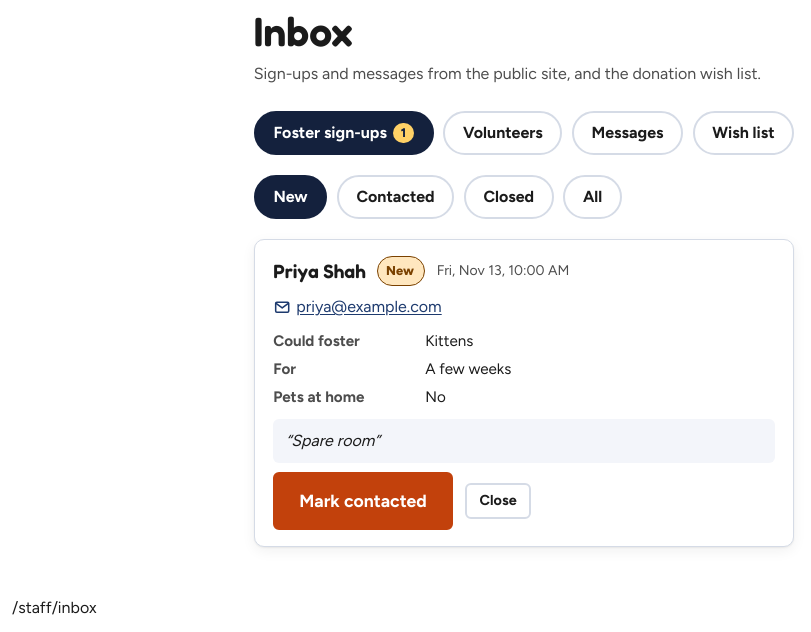
Scenario: Staff inbox › T-INBOX-UI-1: staff see new sign-ups with their answers and mark one contacted
The width and height of the screenshot is (811, 632).
Check: the heading "Priya Shah" is shown, box [273, 260, 366, 282]
Check: the text "Kittens" is shown, box [425, 332, 473, 350]
Click the button "Mark contacted" at (363,501), box [273, 472, 453, 530]
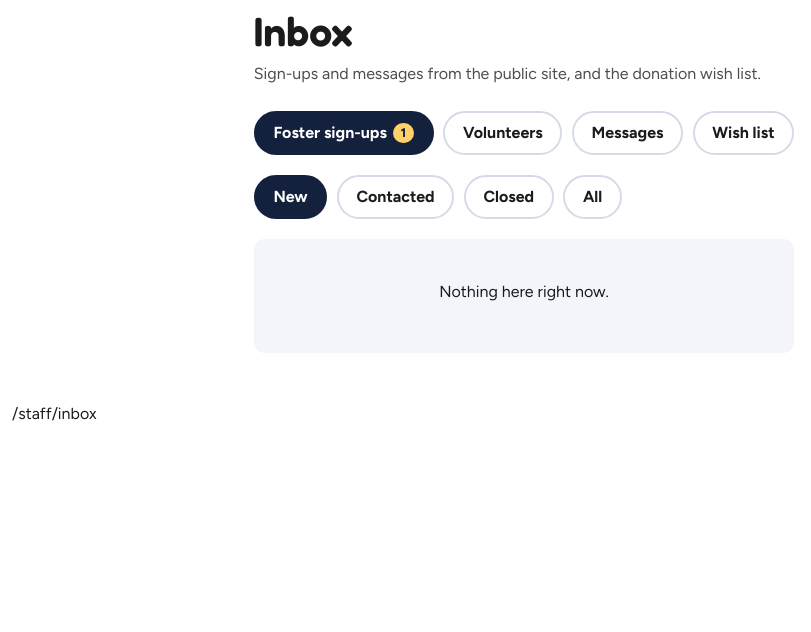
Check: the list item with test id "inbox-item" is gone
